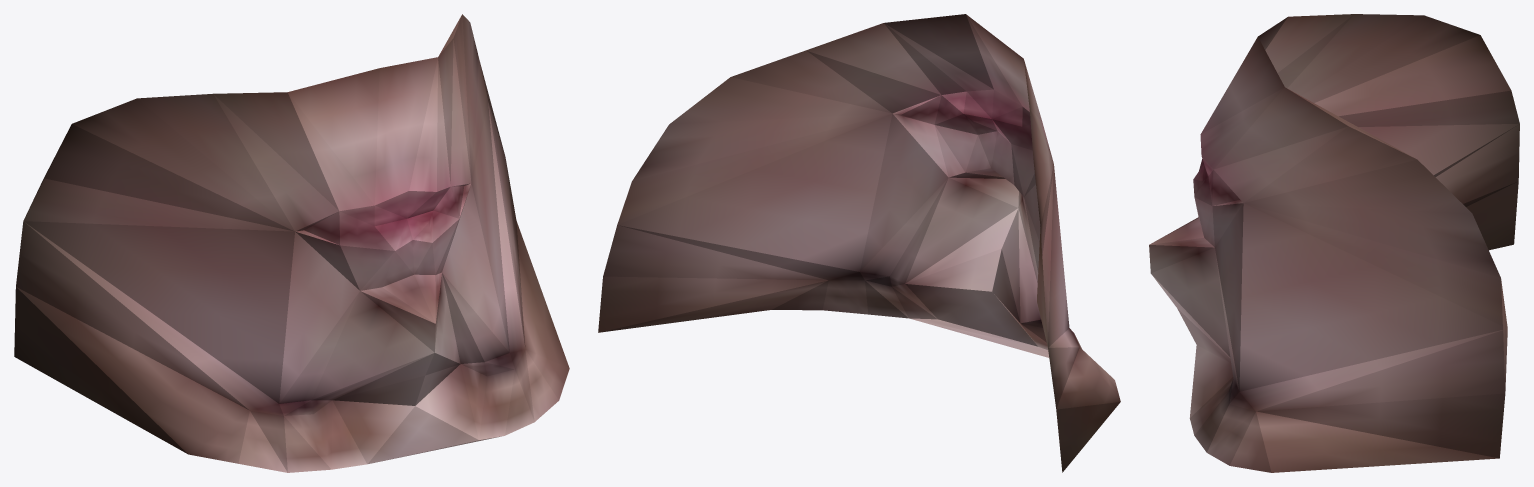
The model's file is real_10356.obj.
The picture shows the model from 3 angles, left to right: view 1: azimuth 30°, elevation 25°; view 2: azimuth 150°, elevation 25°; view 3: azimuth 270°, elevation 25°; orthographic projection. The views are drawn at different scales.
Size of the model in its own units: 123 by 87 by 82.31.
